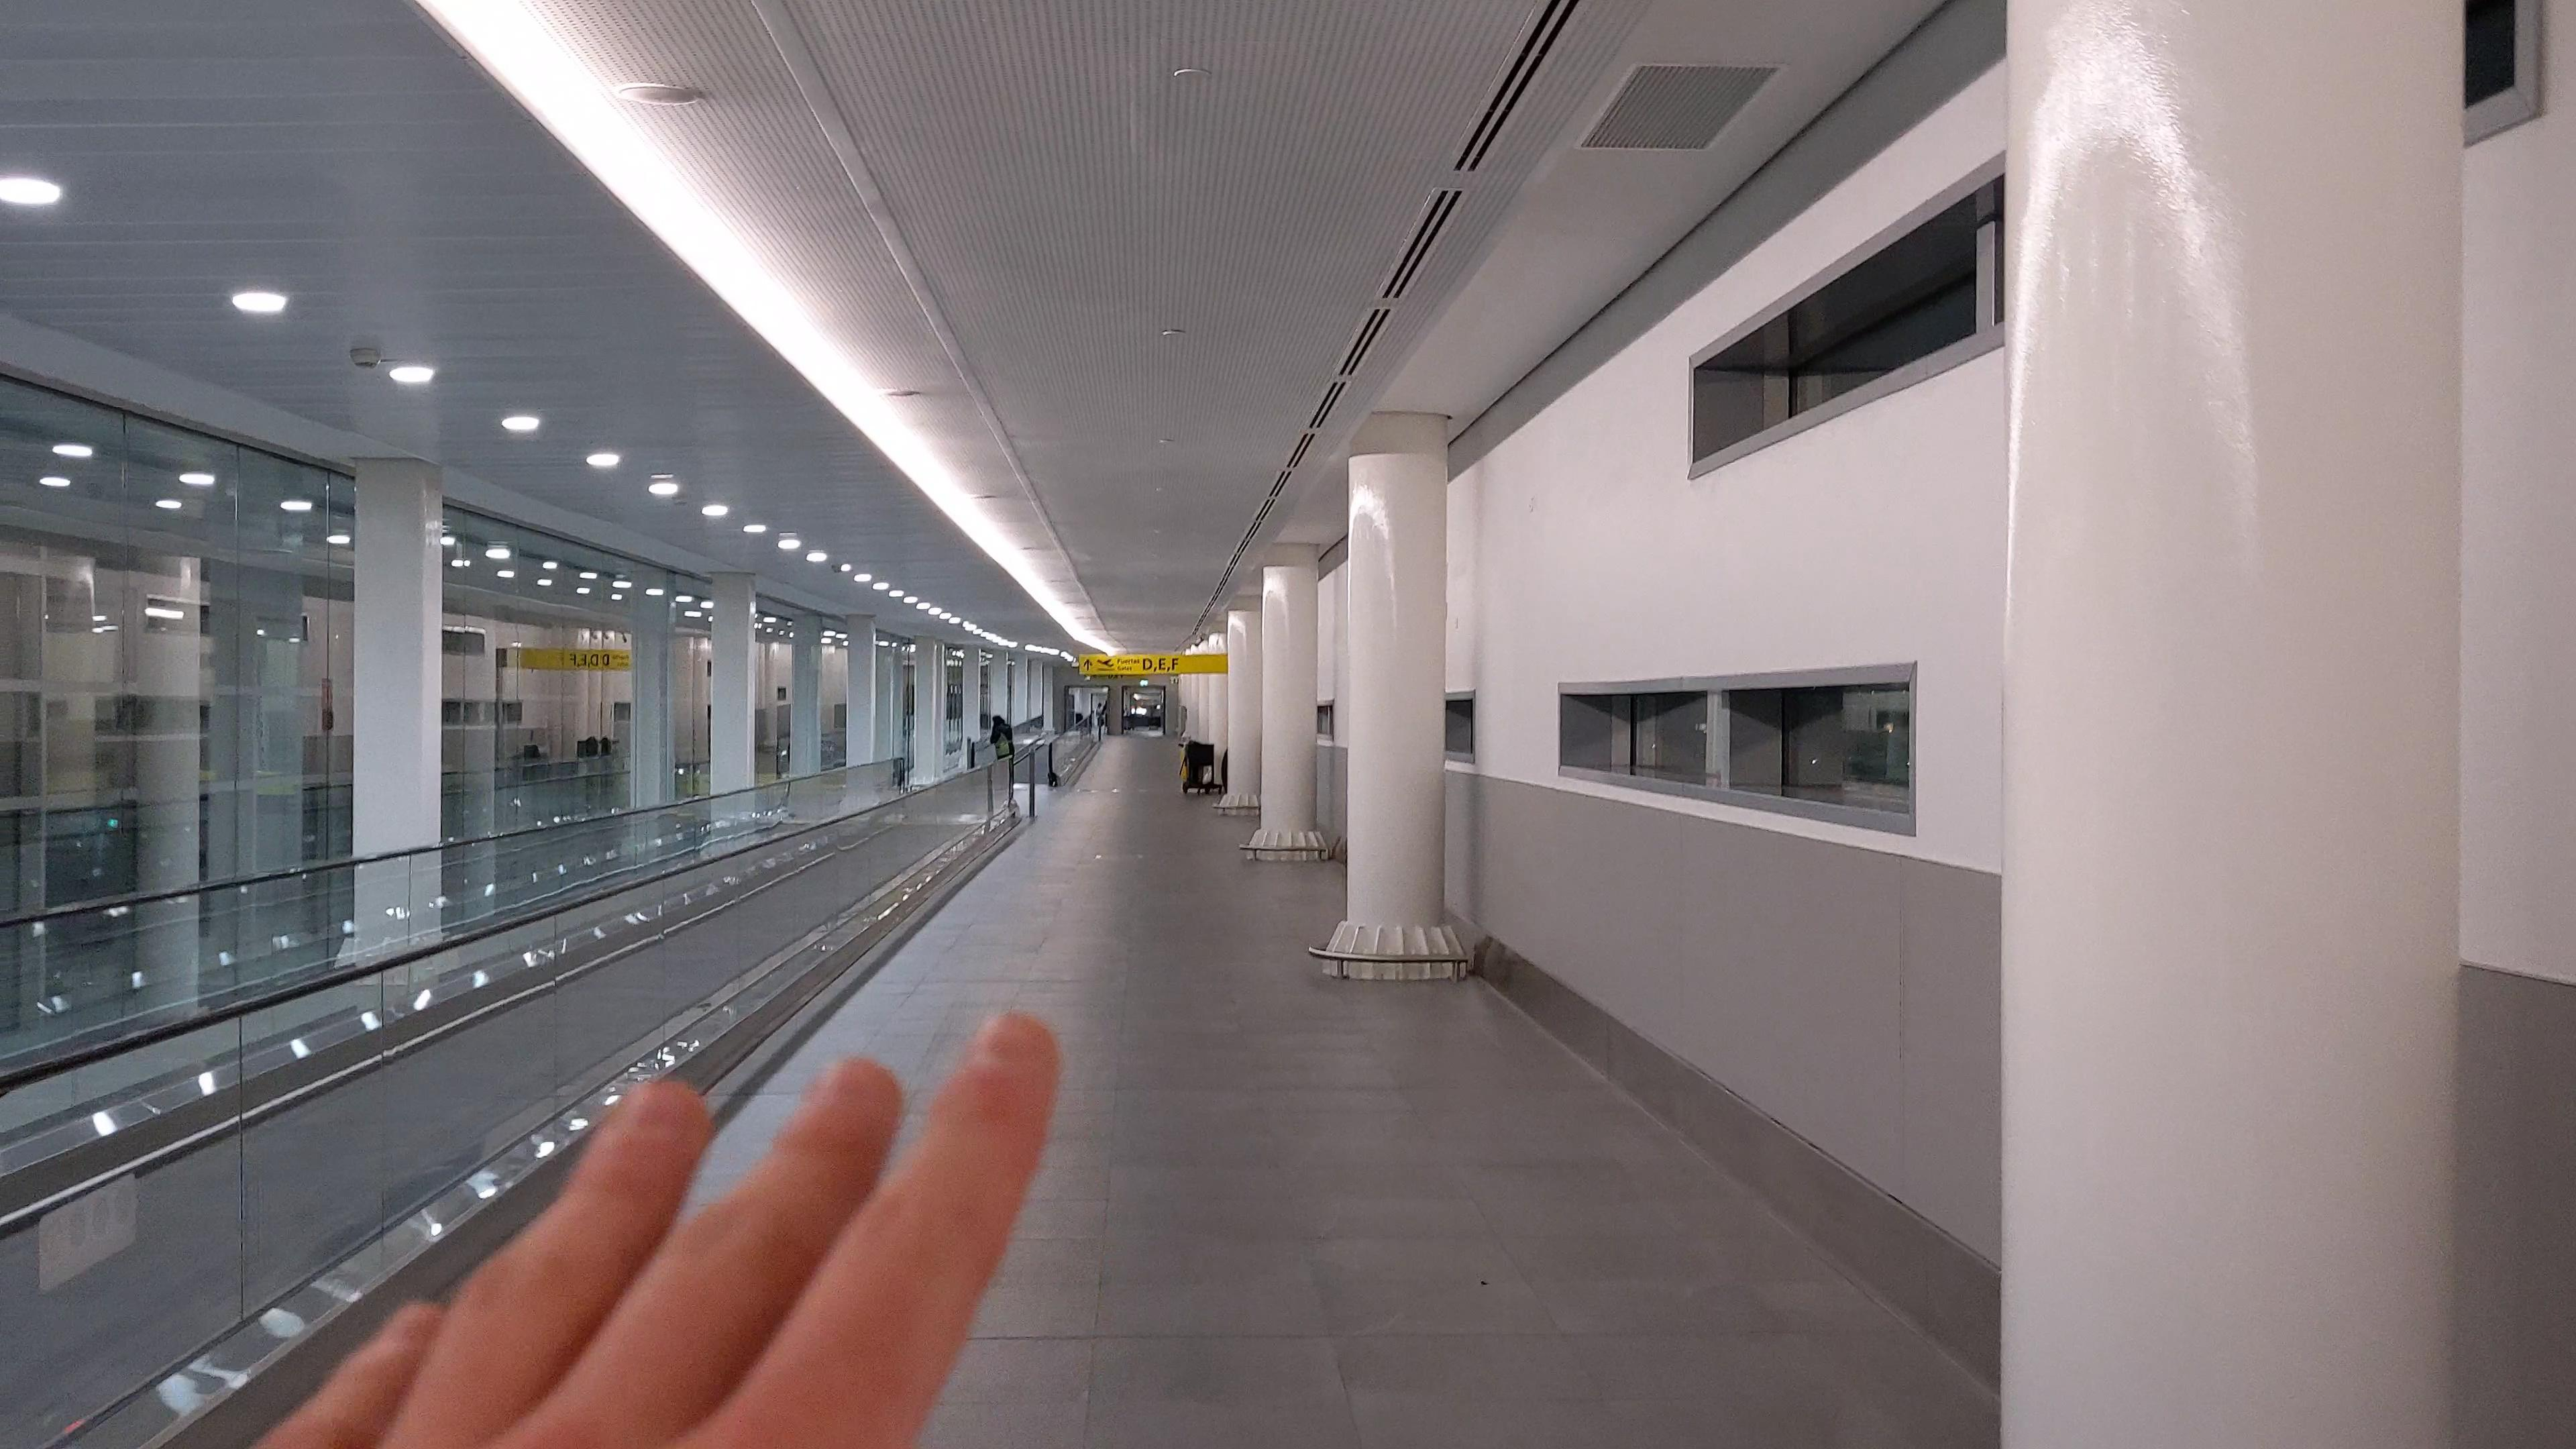thin up arrow: (1097, 658, 1115, 667), (1083, 659, 1093, 671)
